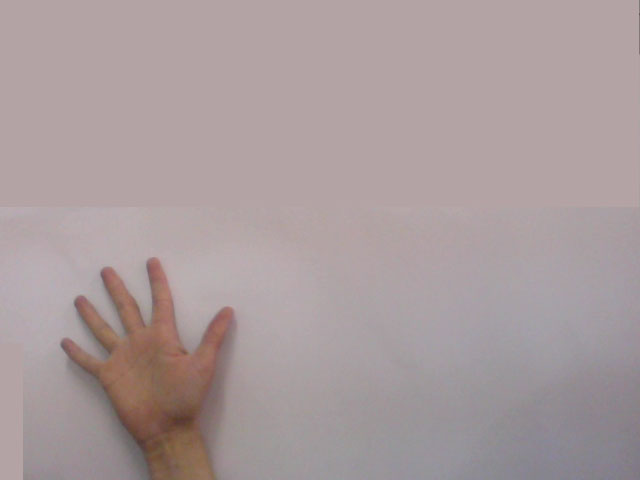hand: (51, 245, 248, 424)
